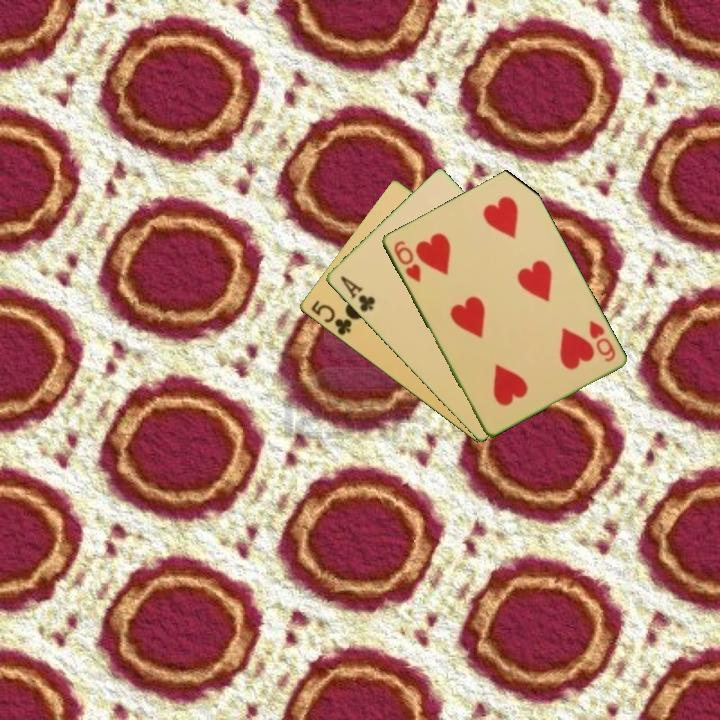5c: (307, 297, 356, 339)
6h: (390, 237, 424, 285), (585, 316, 618, 365)
Ac: (336, 272, 378, 315)
